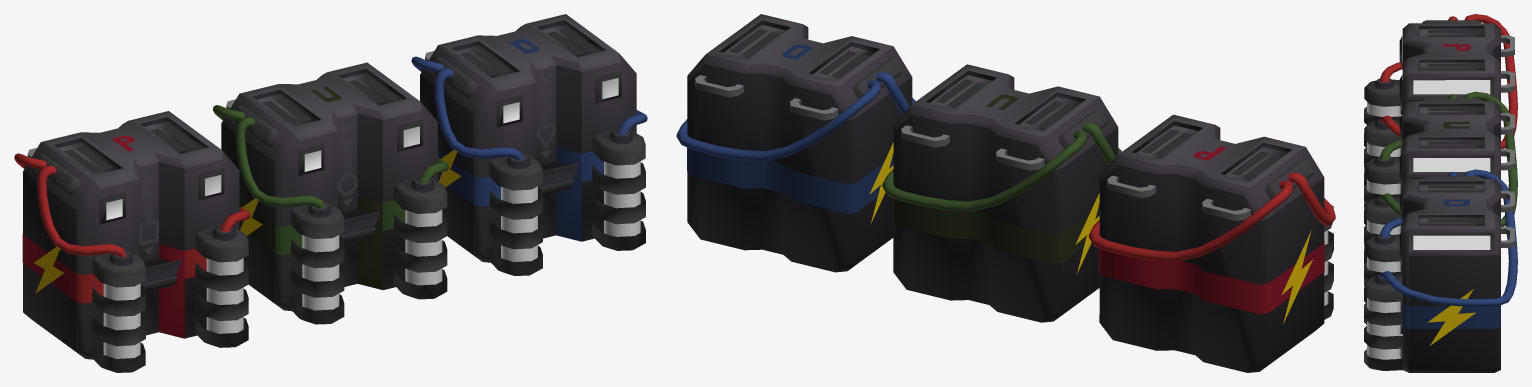
The model's file is PacmanGenerator.fbx.
The picture shows the model from 3 angles, left to right: view 1: azimuth 30°, elevation 25°; view 2: azimuth 150°, elevation 25°; view 3: azimuth 270°, elevation 25°; orthographic projection. The views are drawn at different scales.
Visible parts, largest first — view 1: PacmanPortableGenerator, SuperPacmanPortableGenerator, MrsPacmanPortableGenerator; view 2: PacmanPortableGenerator, SuperPacmanPortableGenerator, MrsPacmanPortableGenerator; view 3: MrsPacmanPortableGenerator, PacmanPortableGenerator, SuperPacmanPortableGenerator.
Part boxes in pixels (bbox=[...]): PacmanPortableGenerator: bbox=[14, 111, 250, 372]; SuperPacmanPortableGenerator: bbox=[213, 62, 448, 324]; MrsPacmanPortableGenerator: bbox=[411, 14, 647, 275]; PacmanPortableGenerator: bbox=[1088, 114, 1335, 372]; SuperPacmanPortableGenerator: bbox=[882, 64, 1121, 322]; MrsPacmanPortableGenerator: bbox=[676, 14, 915, 272]; MrsPacmanPortableGenerator: bbox=[1364, 169, 1517, 372]; PacmanPortableGenerator: bbox=[1364, 14, 1517, 206]; SuperPacmanPortableGenerator: bbox=[1364, 91, 1517, 284].
Size of the model in its own units: 2.98 by 0.8496 by 0.8373.
